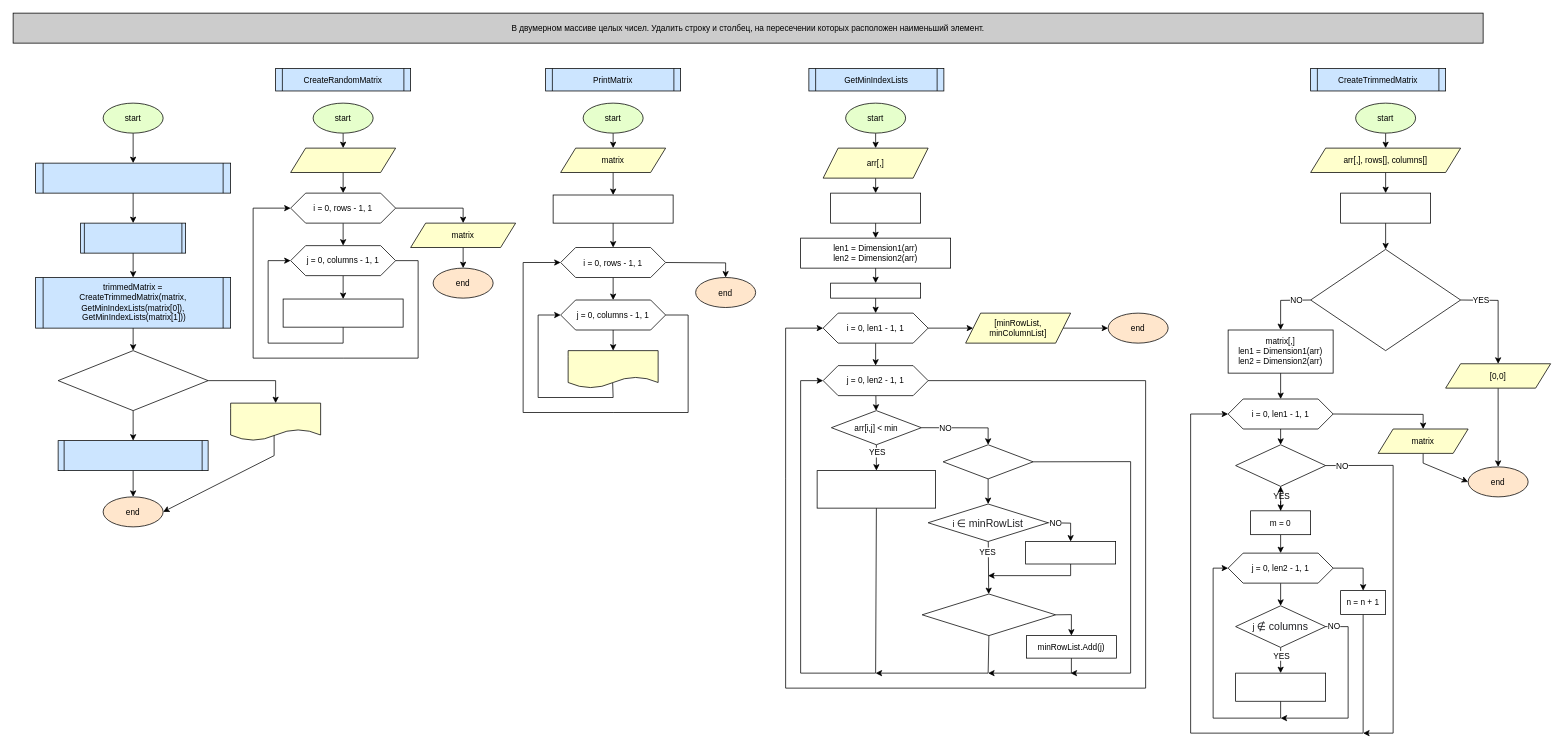
Some shapes in this 1564 by 752 pixel diagram are drawn without their labels. Each missing label, with the box of its shape:
arr[i,j] = min: (942, 444, 1033, 479)
Dimension1(arr) = Dimension(rows) || Dimension2(arr) = Dimension(columns): (1310, 249, 1461, 351)
Dimension1(trimmedMatrix) != 0: (57, 350, 208, 411)
i ∉ rows: (1235, 444, 1326, 486)
j ∈ minColumnList: (921, 593, 1056, 636)
matrix = CreateRandomMAtrix(7, 6, 10): (35, 162, 231, 193)
matrix[i,j]: (567, 350, 658, 388)
matrix[i,j] = Random(0,limit): (282, 298, 403, 327)
matrix[n,m] = arr[i,j] m = m + 1: (1235, 672, 1326, 701)
min = arr[0,0]: (830, 282, 921, 298)
min = arr[i,j] minRowList = [i] minColumnList = [j]: (816, 470, 936, 508)
minRowList.Add(i): (1025, 541, 1116, 564)
minRowList[] minColumnList[]: (830, 192, 921, 223)
n = 0 m = 0: (1340, 192, 1431, 223)
PrintMatrix (matrix): (80, 222, 186, 253)
PrintMatrix (trimmedMatrix): (57, 440, 208, 471)
rows = Rows(matrix) columns = Columns(matrix): (552, 194, 673, 223)
rows, columns, limit: (290, 147, 396, 172)
Нулевая матрица: (230, 402, 321, 441)
